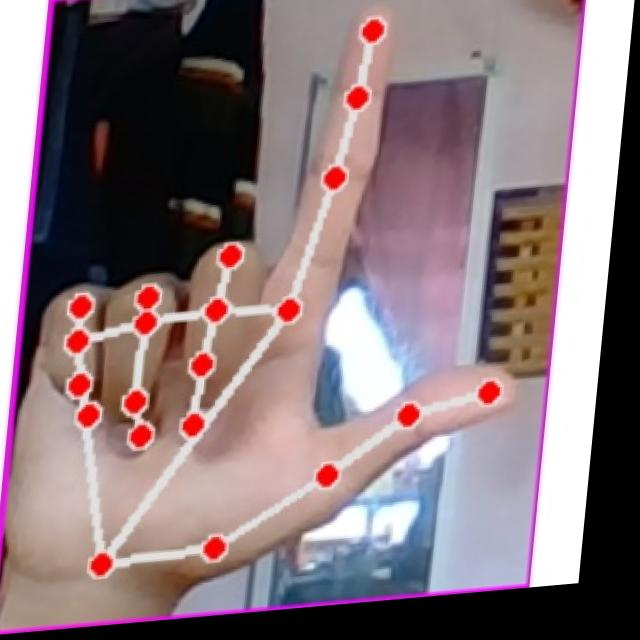L: (13, 0, 571, 604)
